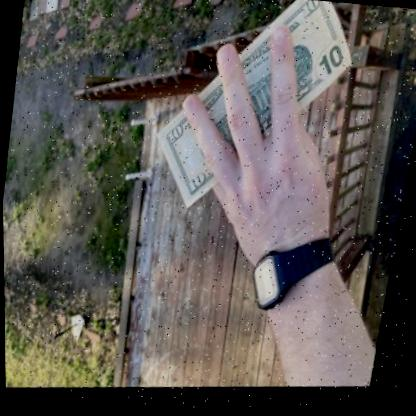ten-back: (157, 1, 353, 215)
